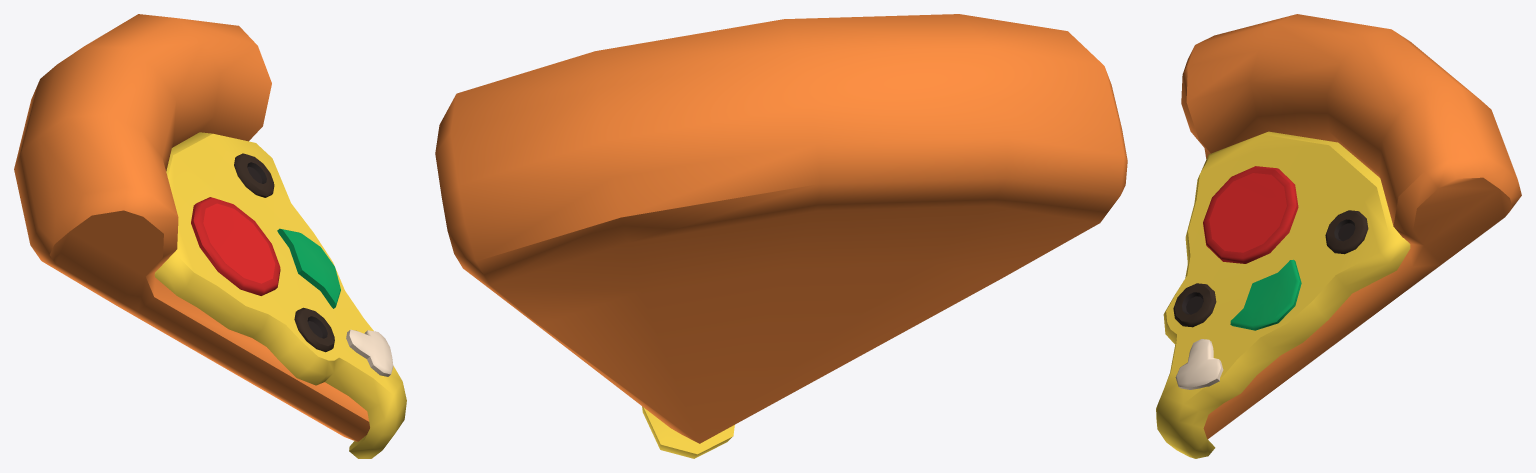
The picture shows the model from 3 angles, left to right: view 1: azimuth 30°, elevation 25°; view 2: azimuth 150°, elevation 25°; view 3: azimuth 270°, elevation 25°; orthographic projection. The views are drawn at different scales.
Parts seen in each view (by area): view 1: model_0.052; view 2: model_0.052; view 3: model_0.052.
Part boxes in pixels (x1,y1,x2,y2): model_0.052: [14, 14, 406, 458]; model_0.052: [435, 14, 1127, 458]; model_0.052: [1156, 14, 1521, 458].
Size of the model in its own units: 3.21 by 3.43 by 3.24.
